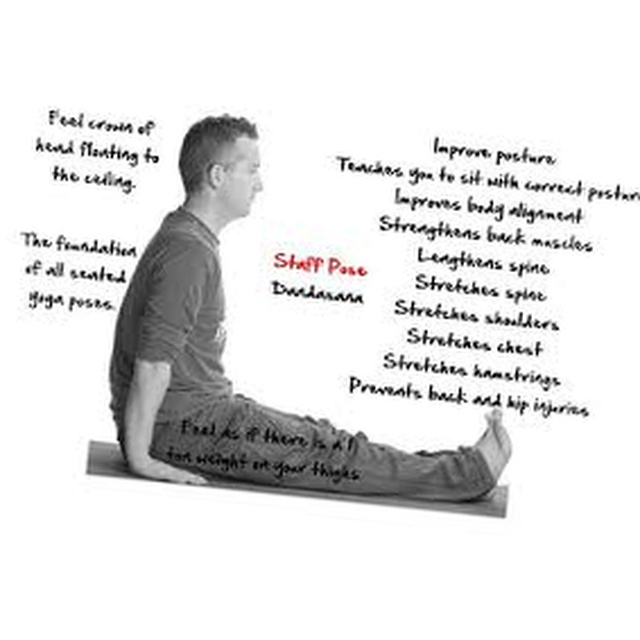Staff_Pose: (109, 114, 513, 502)
